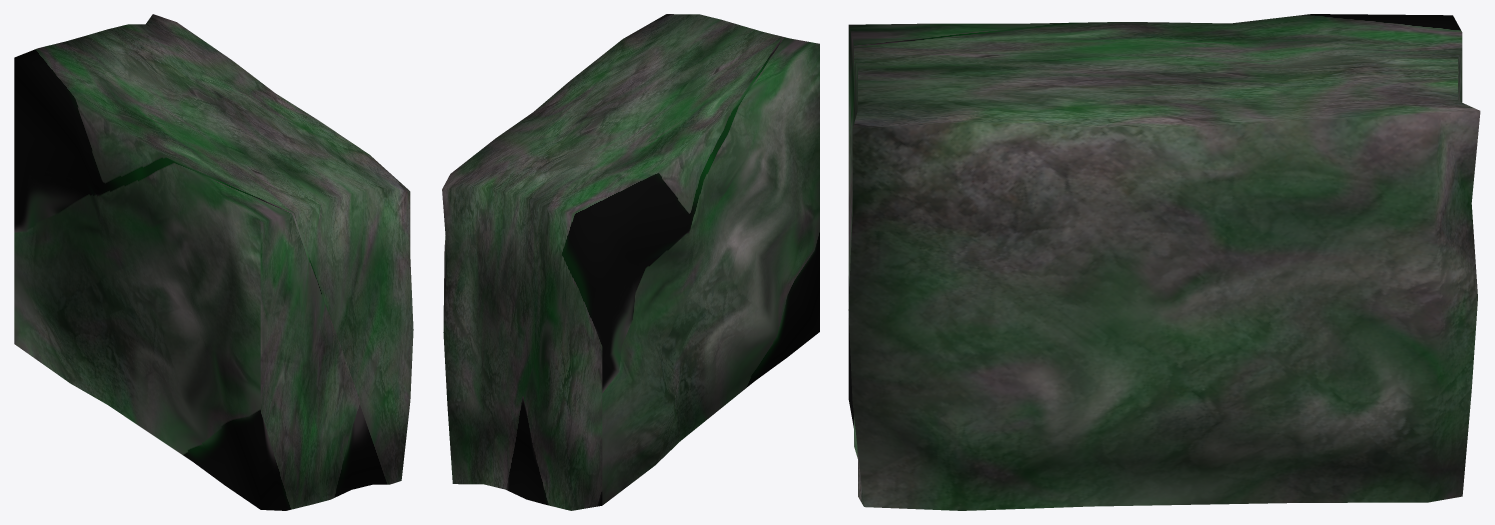
The model's file is CaveStone2.fbx.
3 views of the same model, side by side, from view 1: azimuth 30°, elevation 25°; view 2: azimuth 150°, elevation 25°; view 3: azimuth 270°, elevation 25° (orthographic). The views are drawn at different scales.
Parts seen in each view (by area): view 1: CaveStone3.001; view 2: CaveStone3.001; view 3: CaveStone3.001.
Boxes of the visible parts, bbox=[...] form: CaveStone3.001: bbox=[14, 14, 413, 510]; CaveStone3.001: bbox=[442, 14, 819, 510]; CaveStone3.001: bbox=[848, 14, 1480, 510].
Size of the model in its own units: 870 by 1333 by 1930.
Materials: 1 (1 with a texture image).
